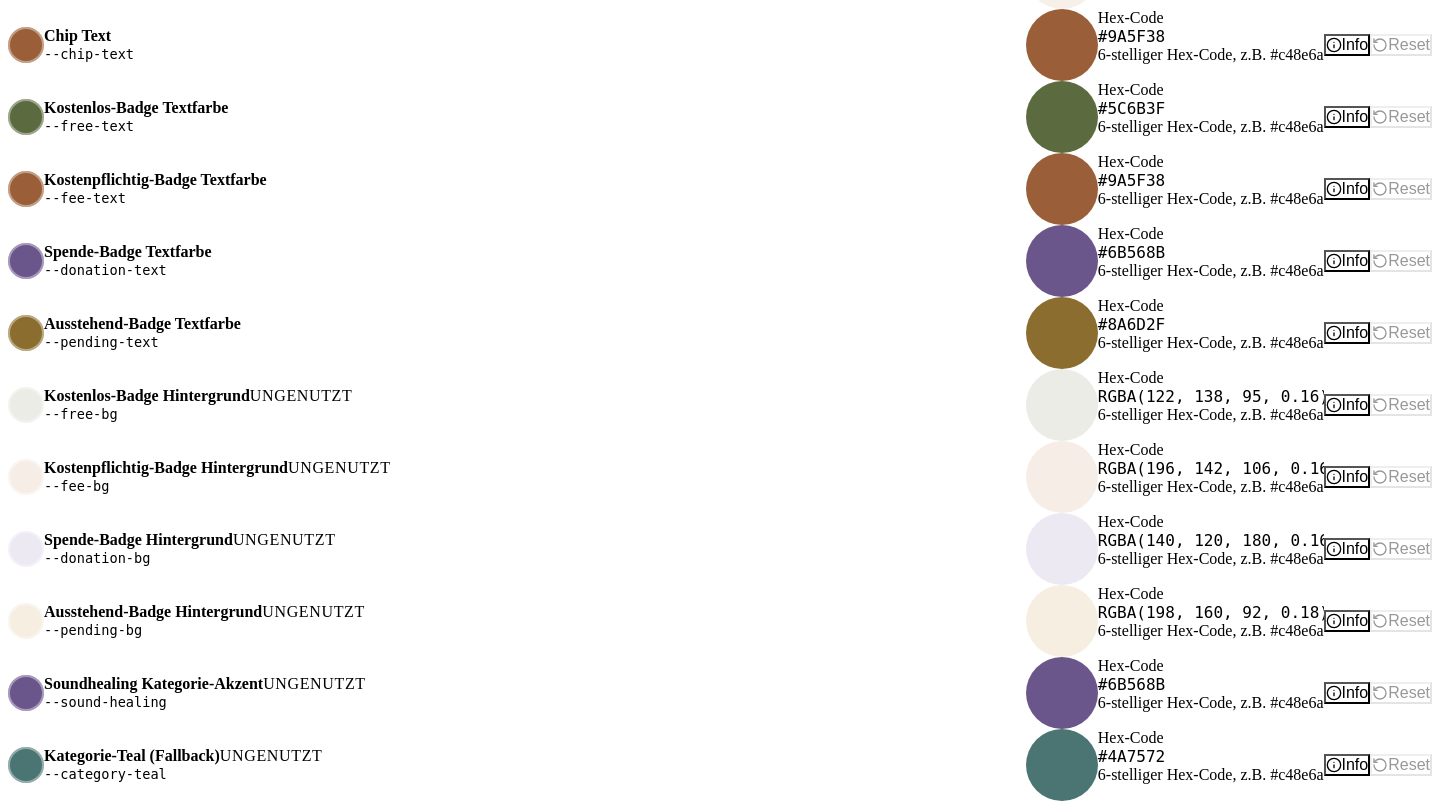
Test case: ThemeTab › shows a "currently unused" note for unused tokens in the info dialog
The image size is (1440, 802).
(page scrolled)
Click the button with test id "theme-row-info" in the row of "Kostenlos-Badge Hintergrund".
click(1347, 405)  # box [1324,394,1370,416]
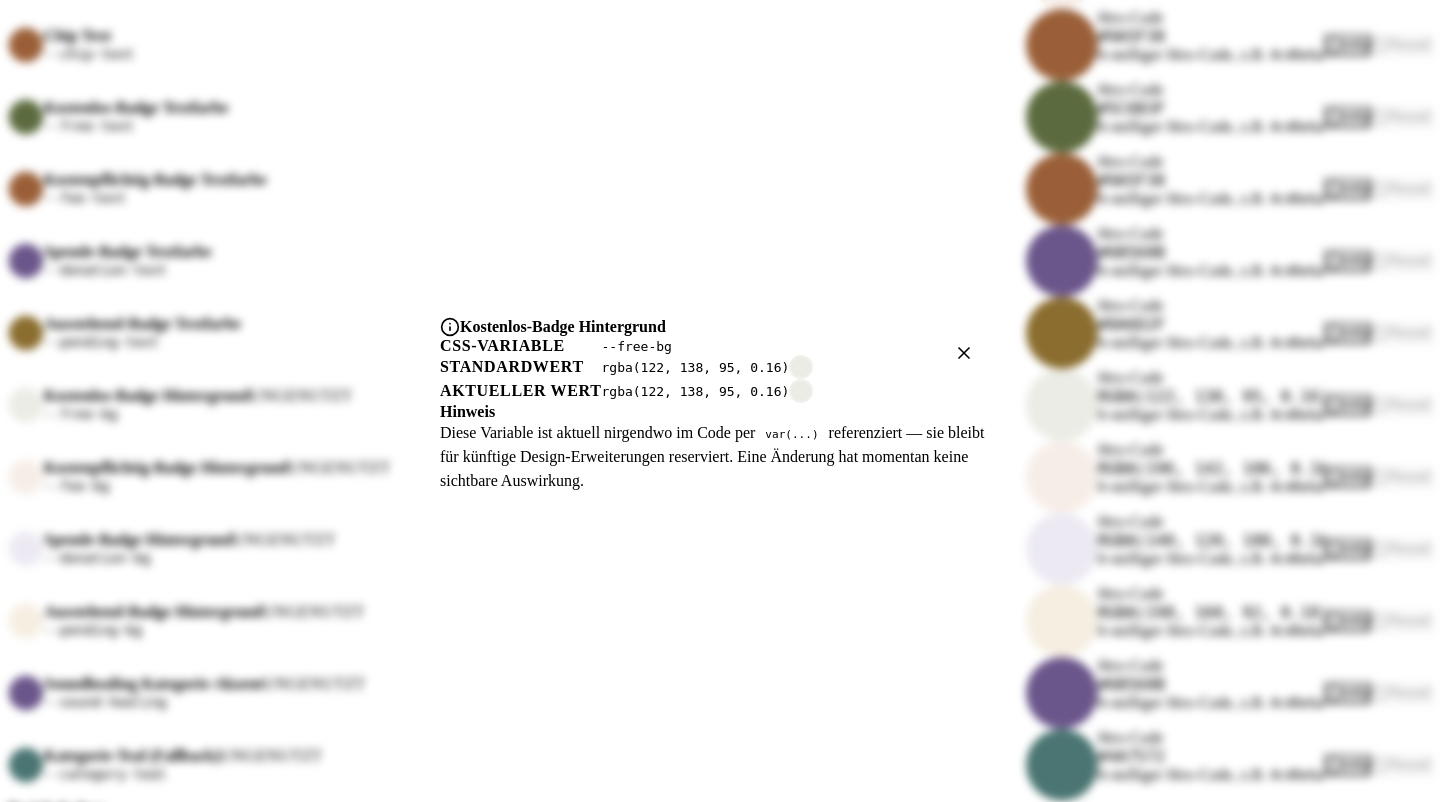
expect the dialog with test id "theme-info-dialog" shows "aktuell nirgendwo im Code": met, box [440,424,759,441]
